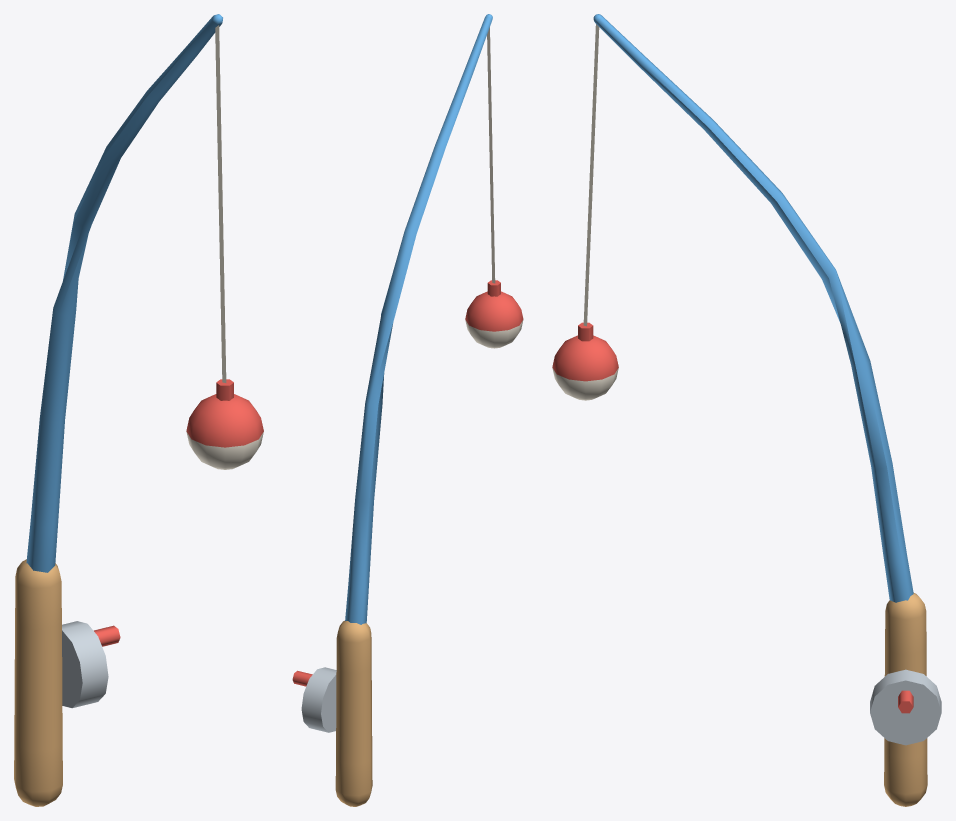
File: item_rod.glb
3 renders of one model, left to right at view 1: azimuth 30°, elevation 25°; view 2: azimuth 150°, elevation 25°; view 3: azimuth 270°, elevation 25°, orthographic. The views are drawn at different scales.
Visible parts, largest first — view 1: item_rod; view 2: item_rod; view 3: item_rod.
Part boxes in pixels (x1=…): item_rod: x1=14, y1=14, x2=263, y2=806; item_rod: x1=292, y1=14, x2=523, y2=806; item_rod: x1=552, y1=14, x2=941, y2=806.
Size of the model in its own units: 0.086 by 0.6807 by 0.304.
